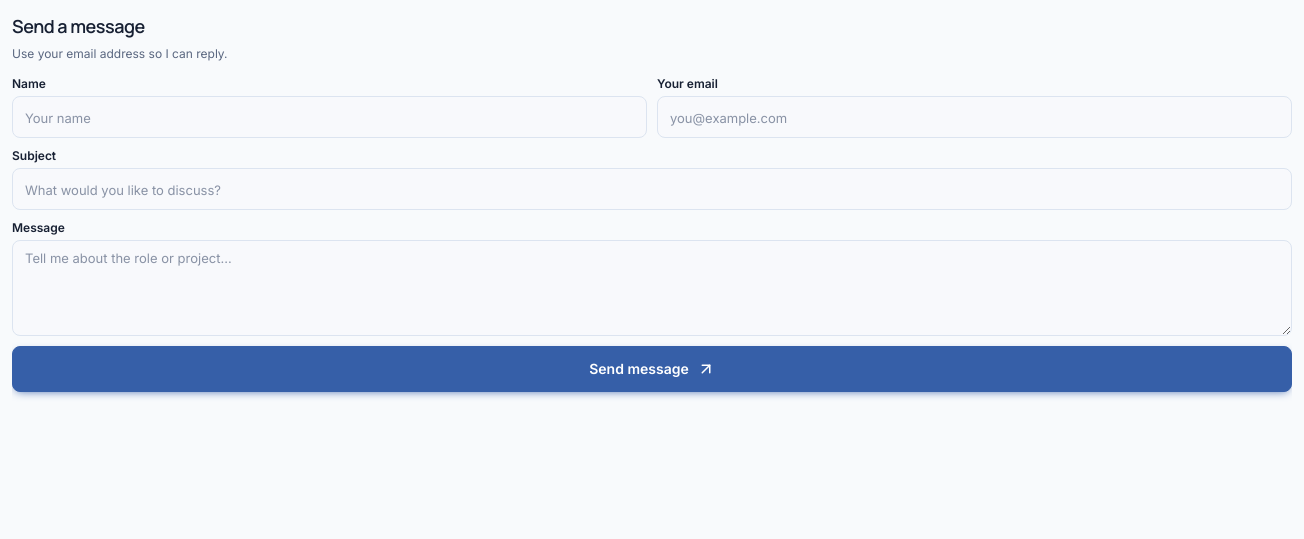
Scenario: ContactForm › shows a retry action when sending fails and preserves the fields
Type "A" into the field labelled "Name" at (330, 117), box [12,96,647,138]
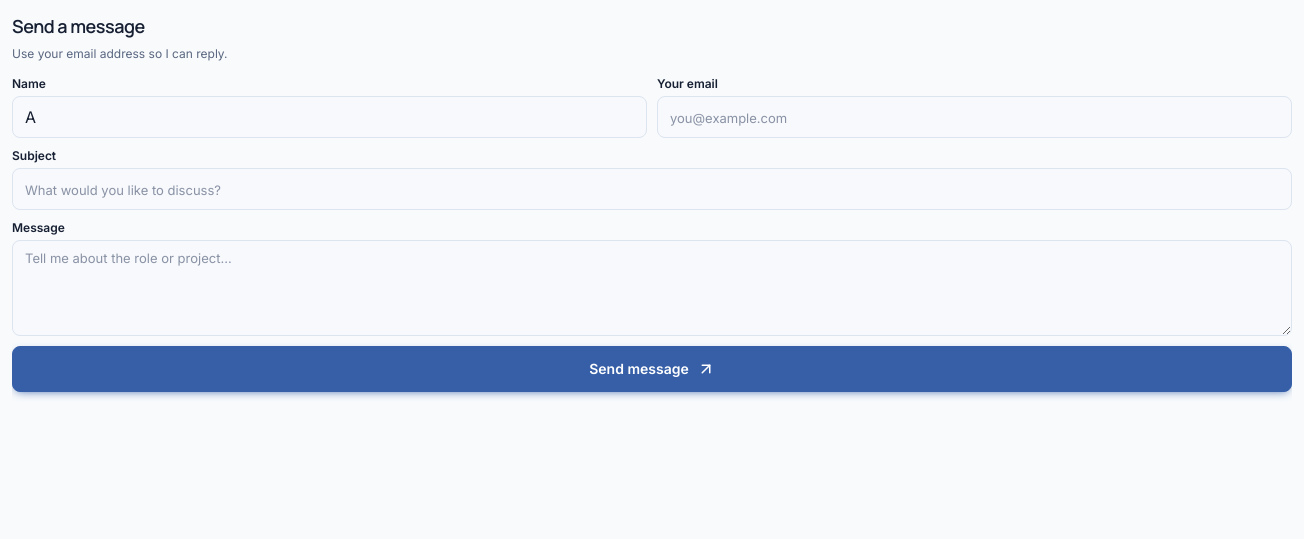
Type "a@example.com" into the field labelled "Your email" at (974, 117), box [657,96,1292,138]
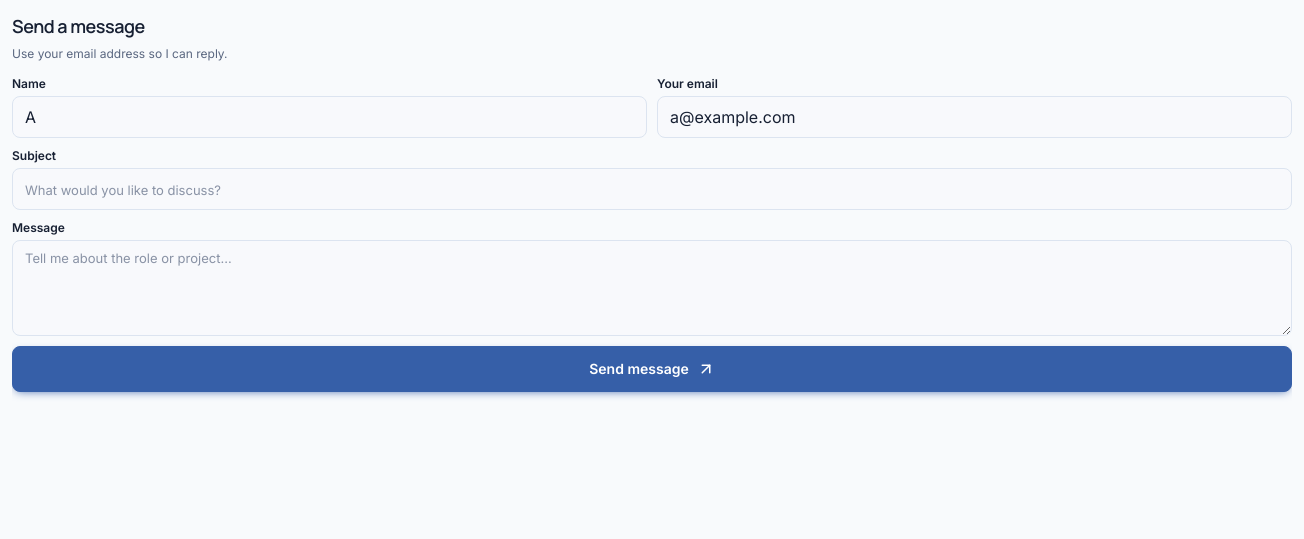
Type "Hello" into the field labelled "Subject" at (652, 189), box [12,168,1292,210]
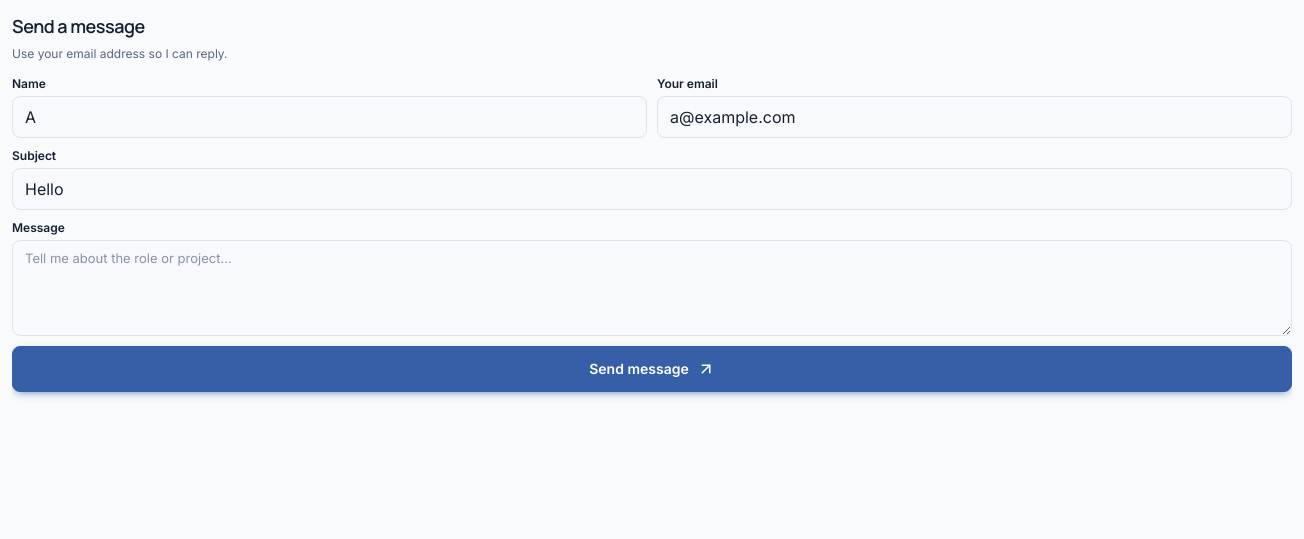
Type "Hi" into the text box labelled "Message" at (652, 288), box [12,240,1292,336]
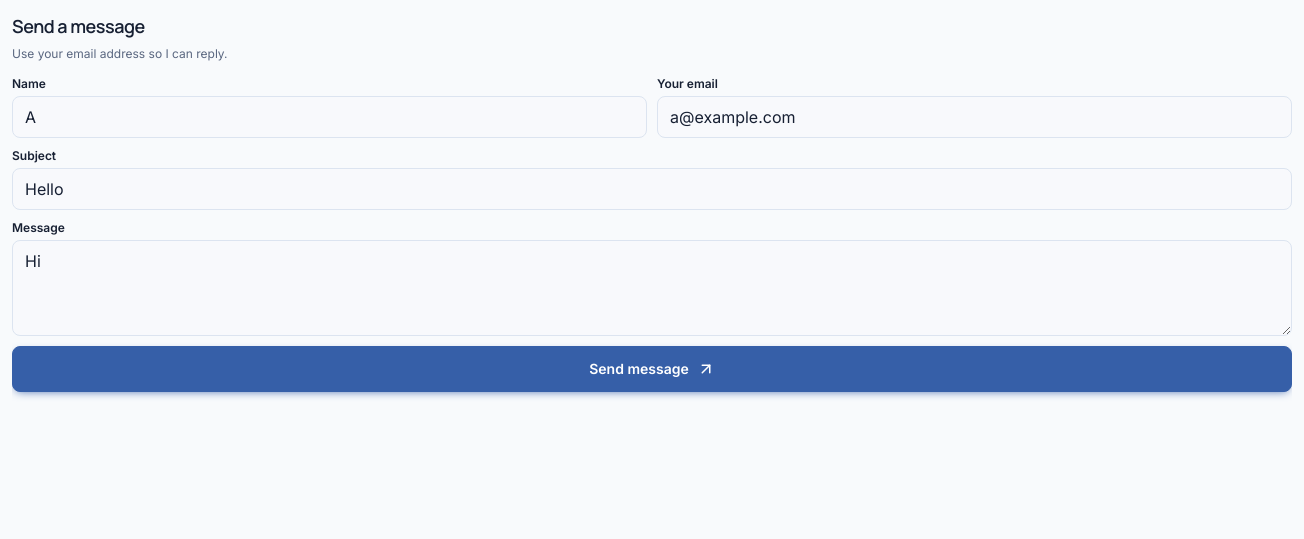
Click the button "Send message" at (652, 369), box [12,346,1292,392]
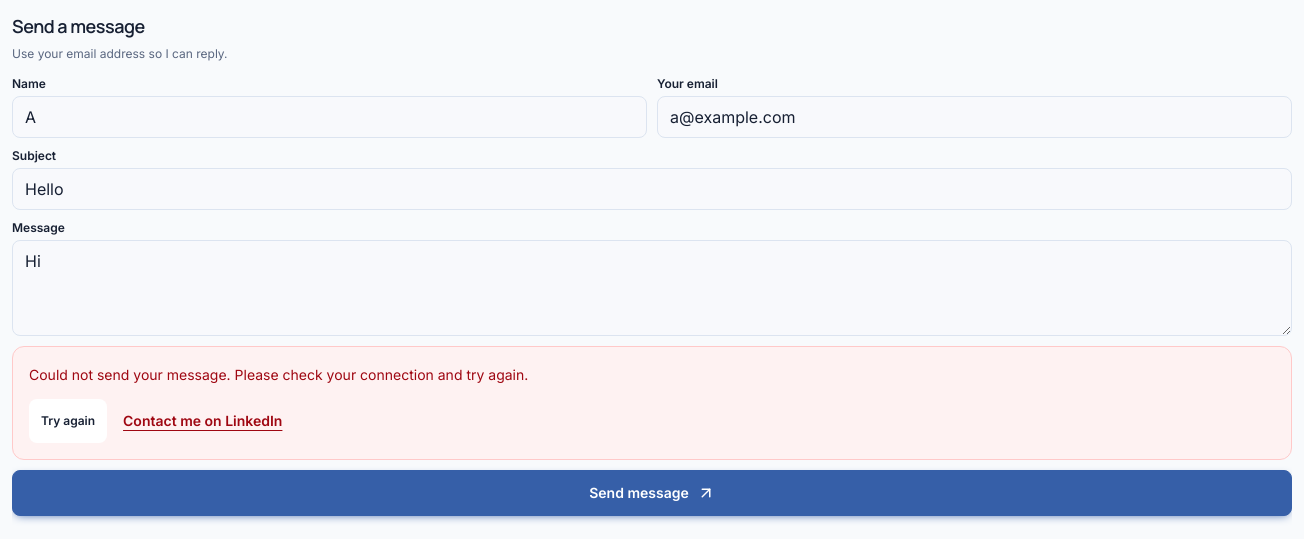
Expected: the message shows "Could not send", [29,366,528,383]
Expected: the button "Try again" is shown, [29,399,107,443]
